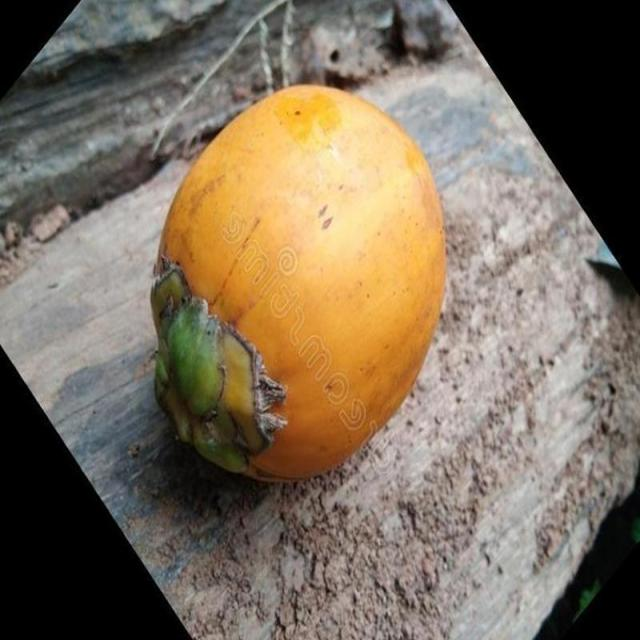good: (153, 85, 448, 485)
